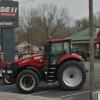Tractor: (9, 43, 92, 92)
